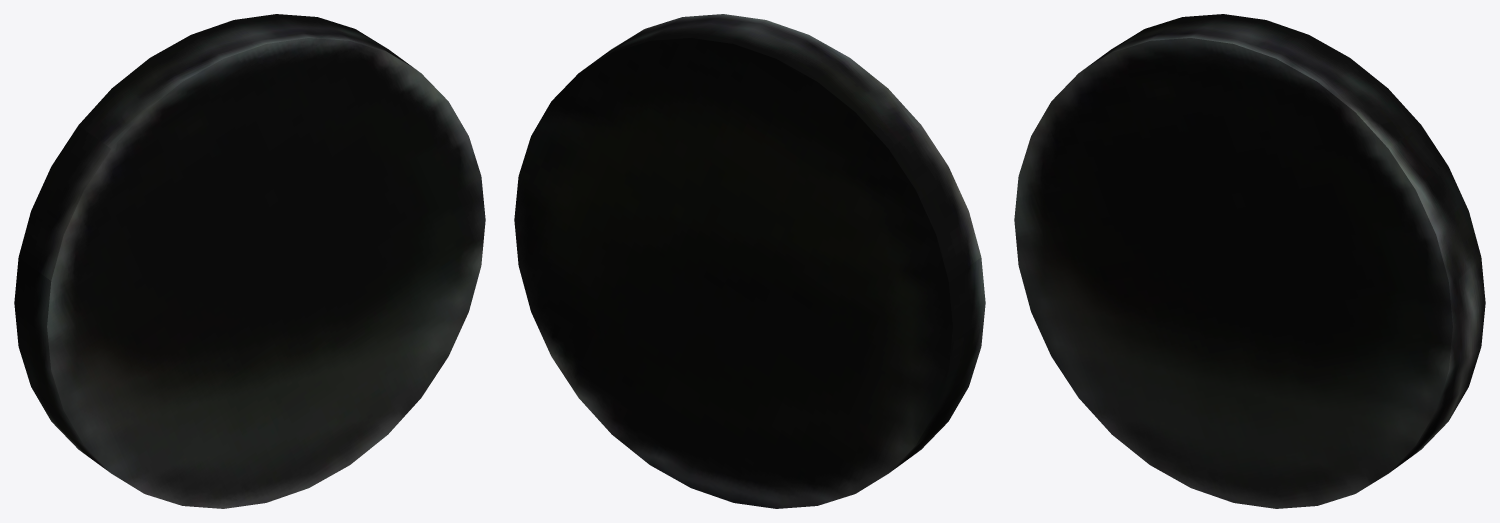
The model's file is start_button_2__button_cap.glb.
The picture shows the model from 3 angles, left to right: view 1: azimuth 30°, elevation 25°; view 2: azimuth 150°, elevation 25°; view 3: azimuth 330°, elevation 25°; orthographic projection.
Visible parts, largest first — view 1: geometry_0; view 2: geometry_0; view 3: geometry_0.
Boxes of the visible parts, <box> form: geometry_0: <box>14,14,485,508</box>; geometry_0: <box>514,14,985,508</box>; geometry_0: <box>1014,14,1485,508</box>.
Size of the model in its own units: 0.062 by 0.062 by 0.008.
1 material, 1 textured.
